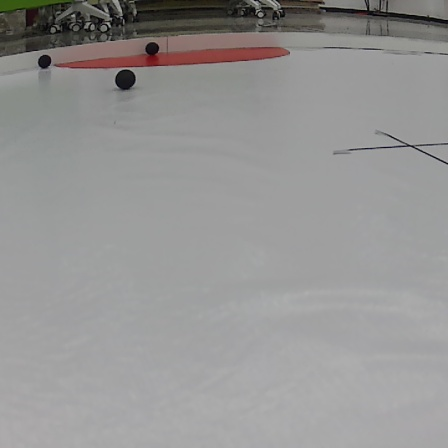black: (110, 67, 140, 89), (34, 50, 52, 73), (145, 43, 161, 57)
red_base: (34, 48, 290, 66)
